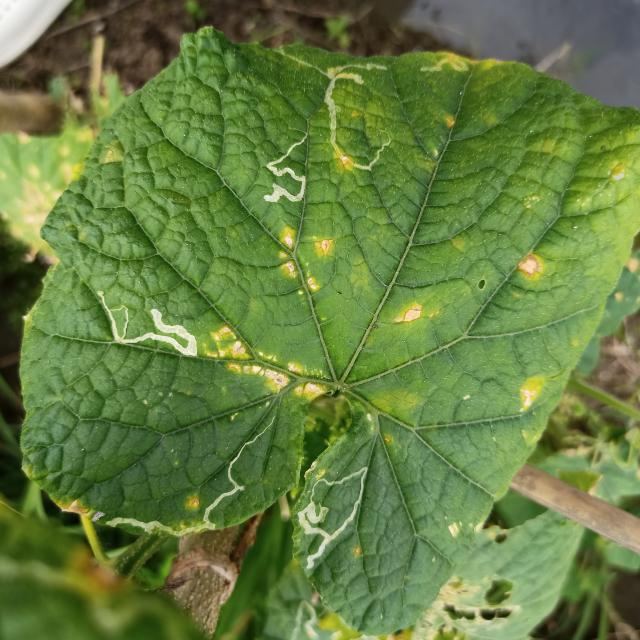disease_cucumber: (201, 323, 321, 401), (274, 227, 332, 296), (440, 511, 488, 540), (517, 373, 546, 414), (394, 304, 424, 326), (519, 251, 541, 280), (185, 492, 200, 512)
